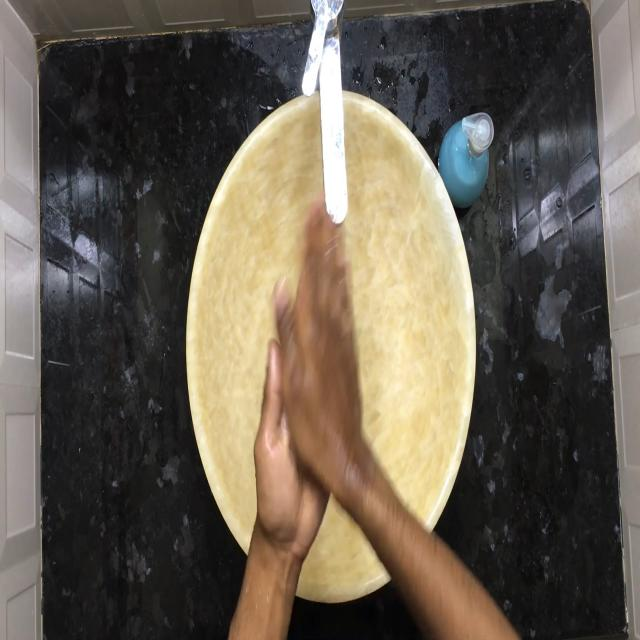step_1: (252, 219, 359, 547)
